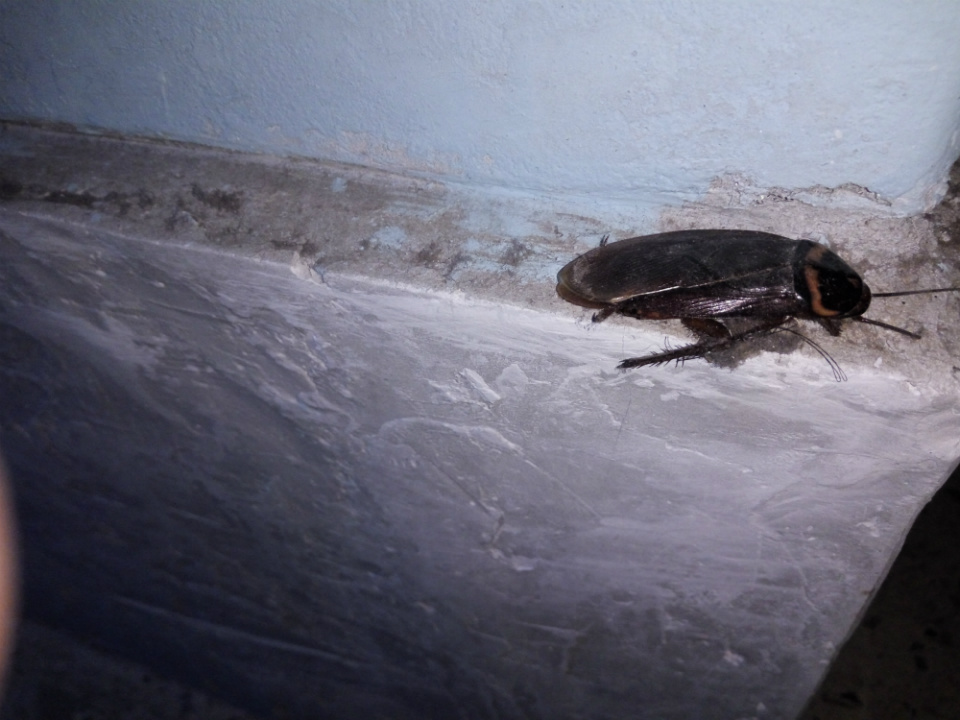cockroach: (494, 203, 960, 395)
